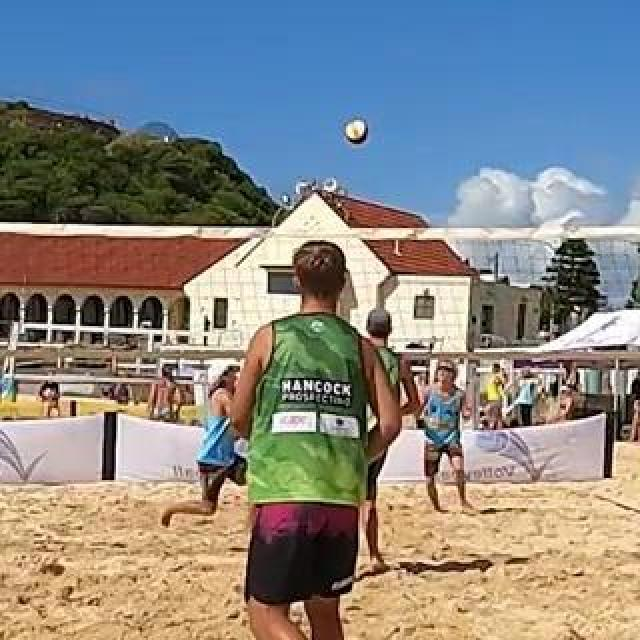volleyball: (345, 120, 371, 144)
